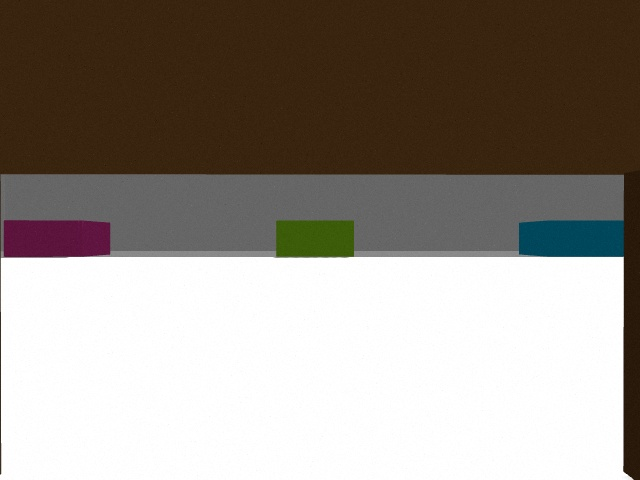blue_drop_zone: (519, 220, 623, 257)
green_drop_zone: (276, 220, 354, 257)
red_drop_zone: (4, 220, 110, 257)
